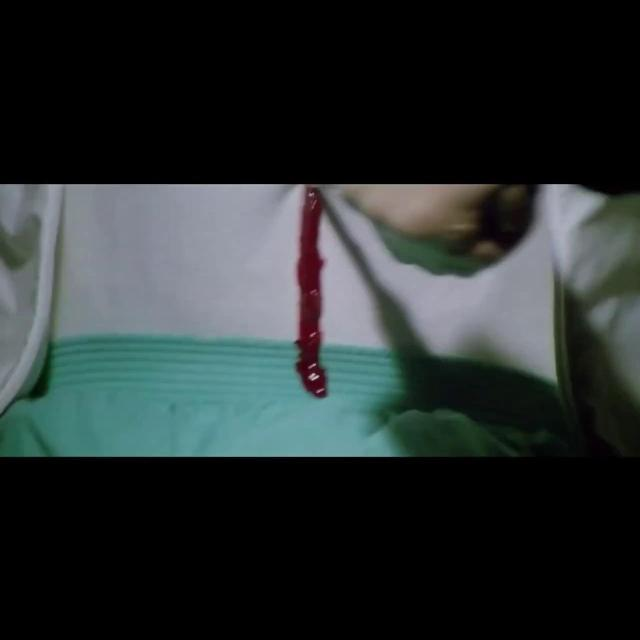blood: (296, 186, 327, 397)
